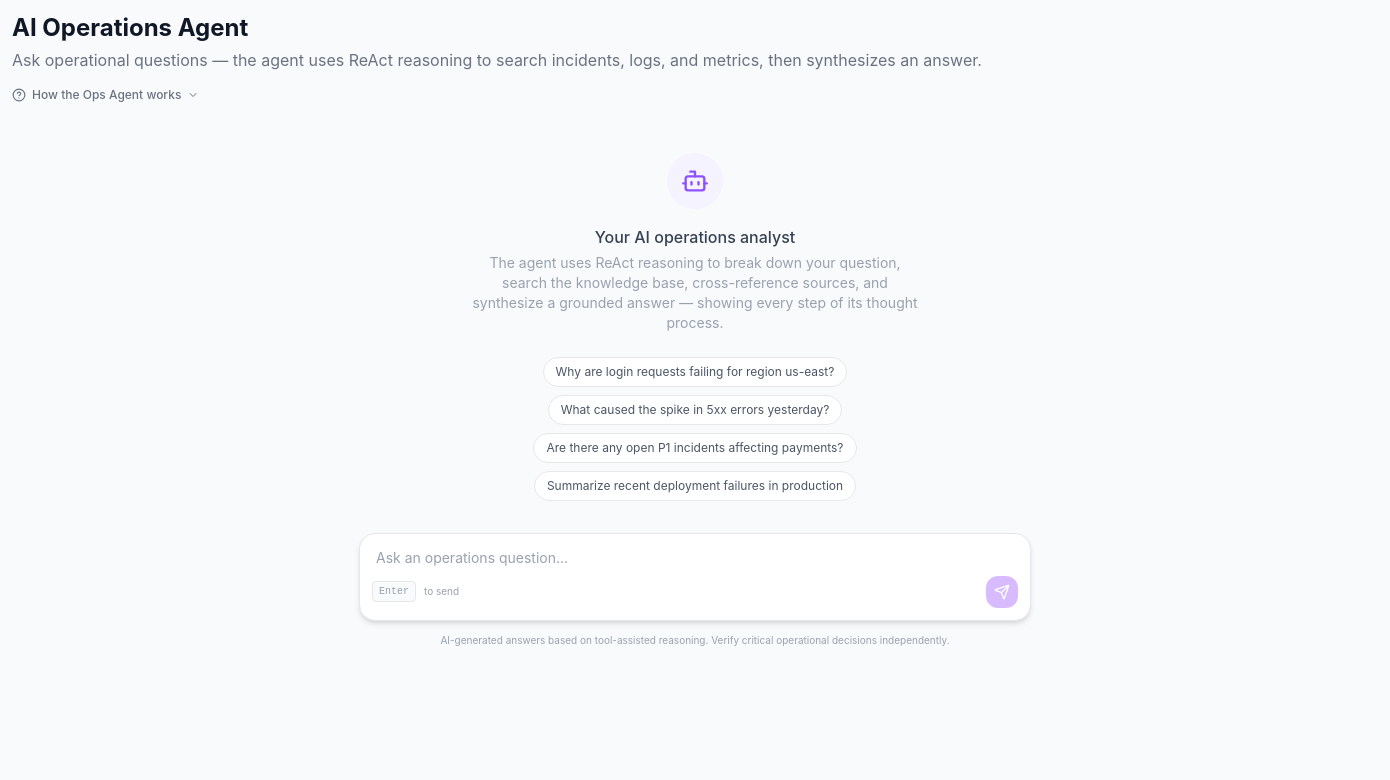
Test: AgentQuery — KB step confidence › shows ConfidencePill on query_knowledge_base step
This screenshot has width=1390, height=780.
Type "Why are login requests failing?" into the text box at (695, 554), box [360,534,1030,576]
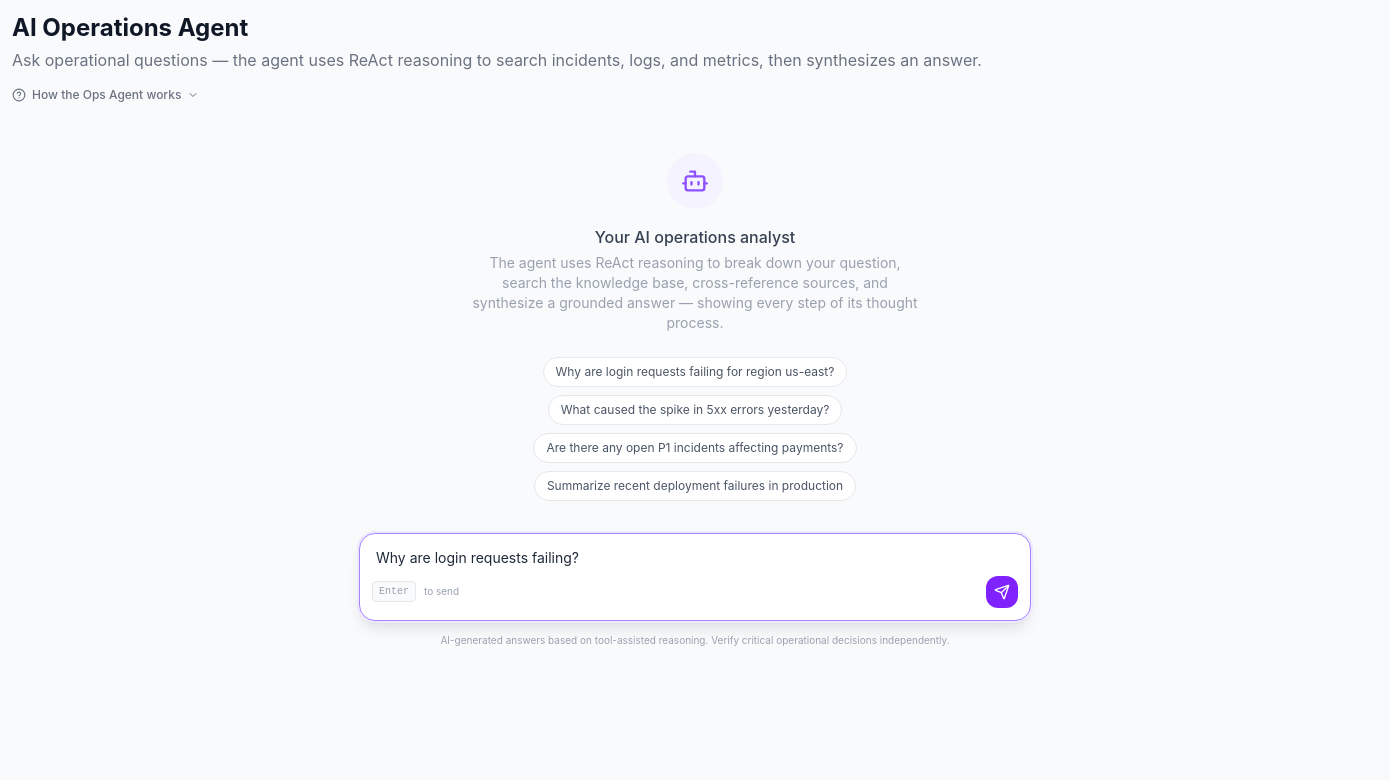
Click the button named "Send" at (1002, 592), box [986,576,1018,608]
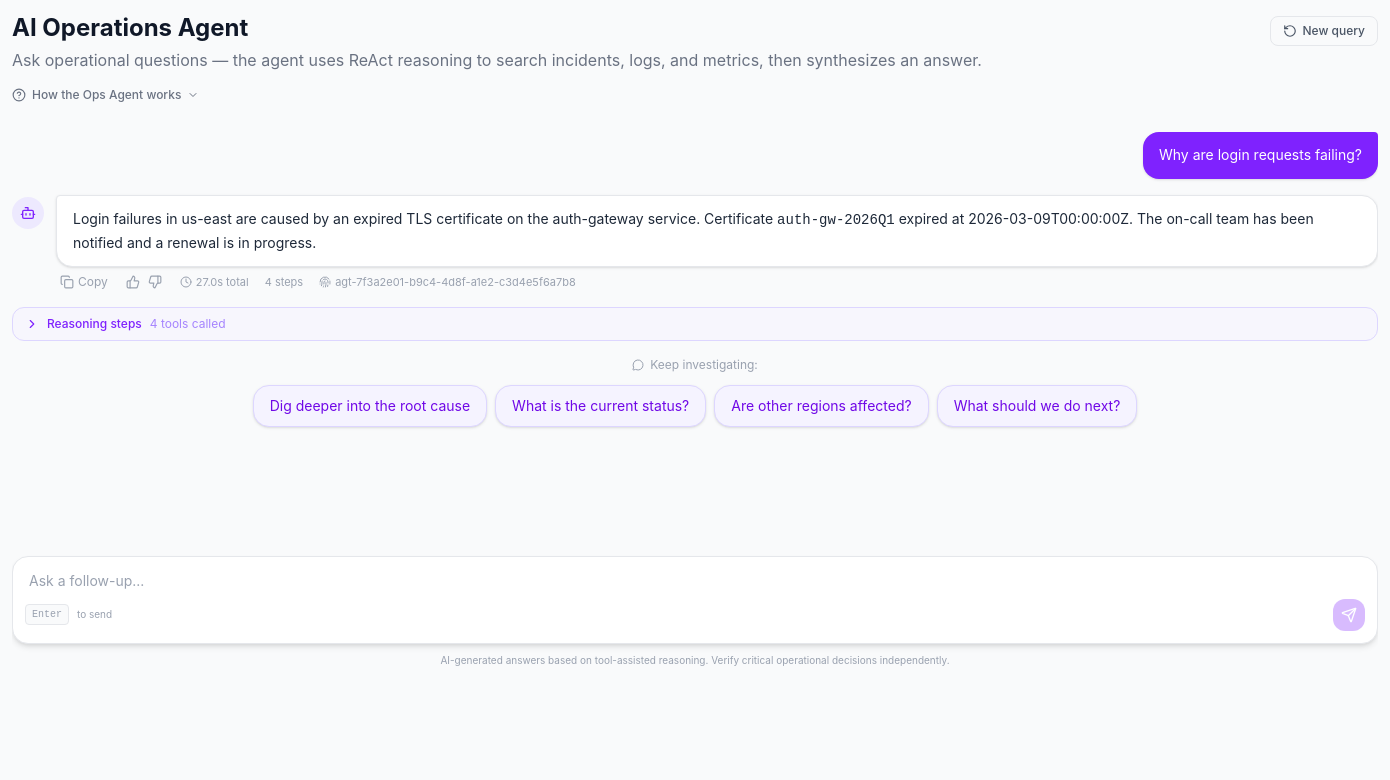
Expected: the text "expired TLS certificate" is shown, [73,210,777,227]
Click the text "Reasoning steps" at (94, 324), box [47,316,142,332]
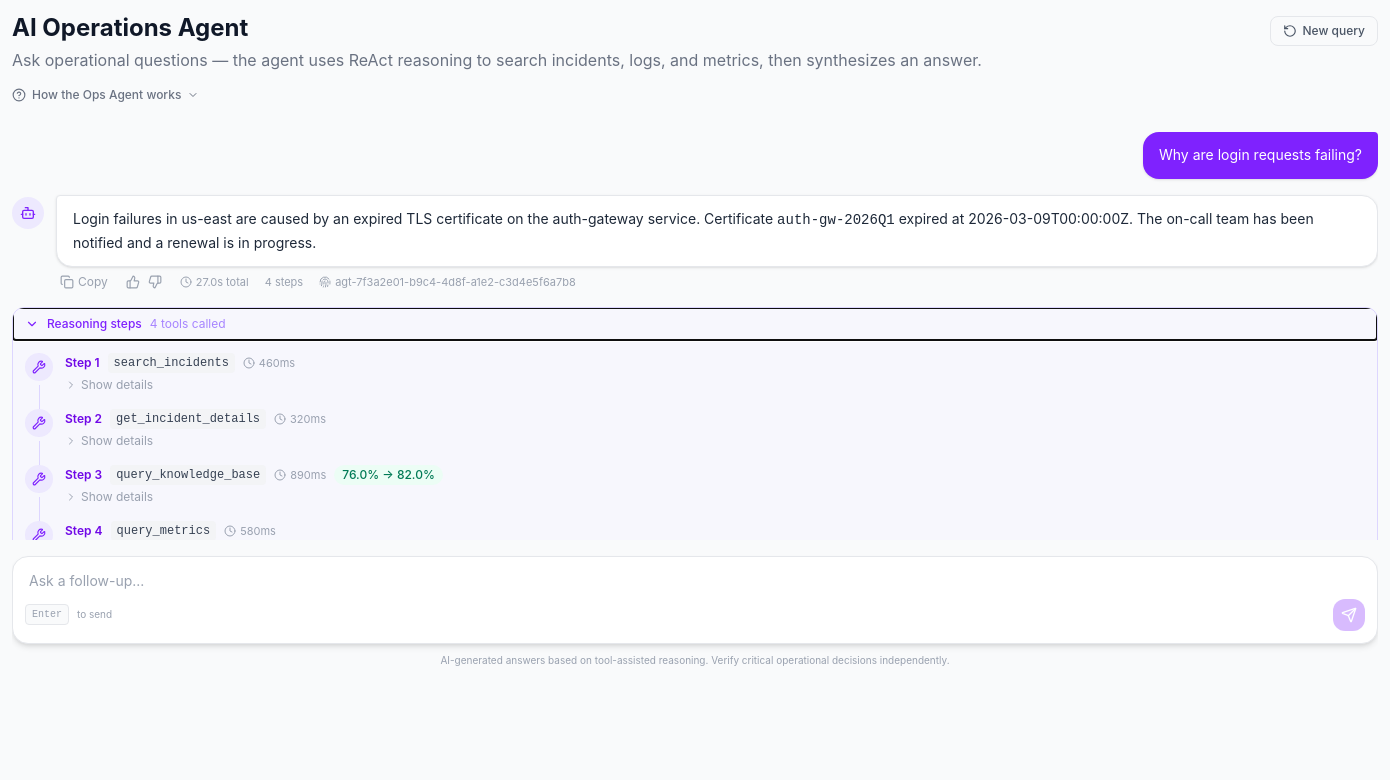
Expected: the text "76.0% → 82.0%" is shown, [342,467,435,483]
